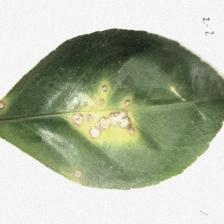canker: (63, 86, 142, 143)
